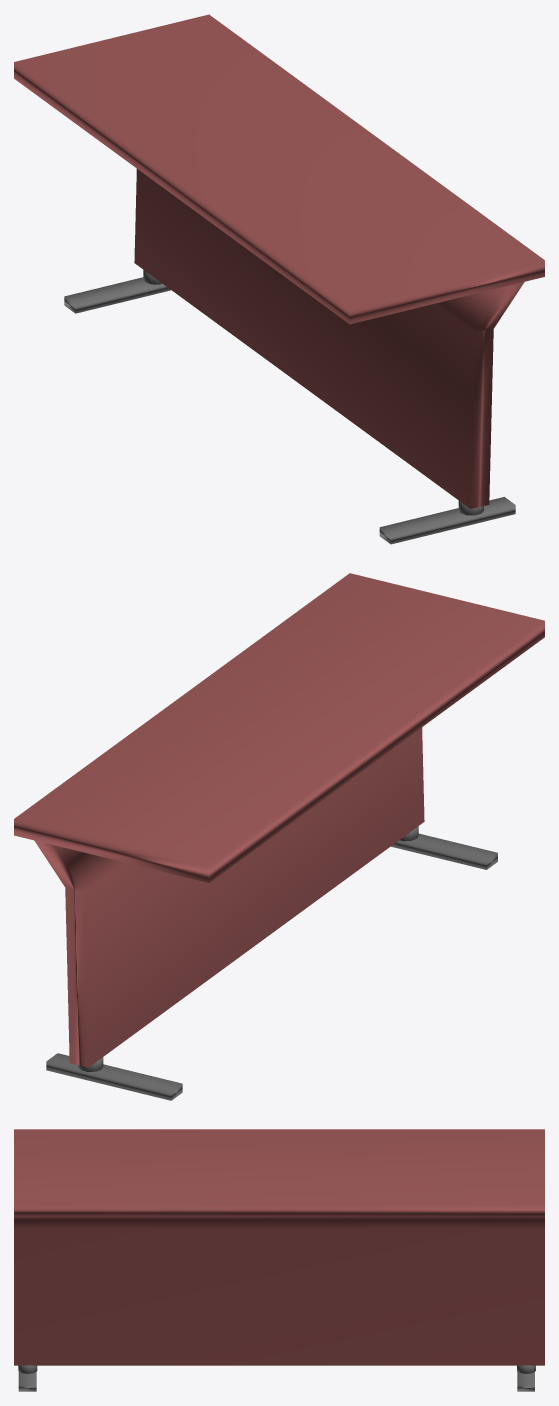
Rendered from TeachersTable.fbx.
3 renders of one model, top to bottom at view 1: azimuth 30°, elevation 25°; view 2: azimuth 150°, elevation 25°; view 3: azimuth 270°, elevation 25°, orthographic. The views are drawn at different scales.
Parts seen in each view (by area): view 1: polySurface1; view 2: polySurface1; view 3: polySurface1.
Boxes of the visible parts, x1,y1,x2,y2 form: polySurface1: (14, 14, 544, 544); polySurface1: (14, 573, 544, 1100); polySurface1: (14, 1129, 544, 1391).
Bounding box in the file's own units: 153 × 187 × 456.
